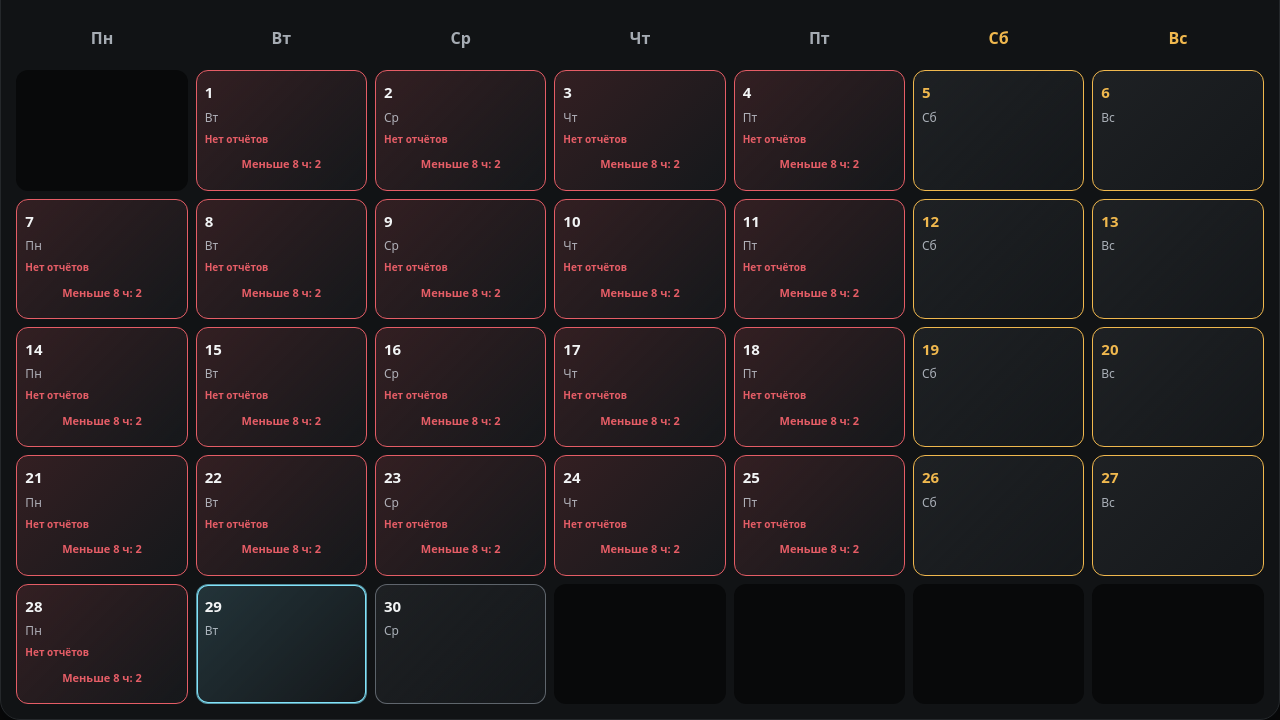
month calendar hour warnings › opens a day with no reports and lists only the employees missing hours
The image size is (1280, 720).
(page scrolled)
Click the button with aria-label "28 сентября:" at x=102, y=644, box [16,584,188,704]
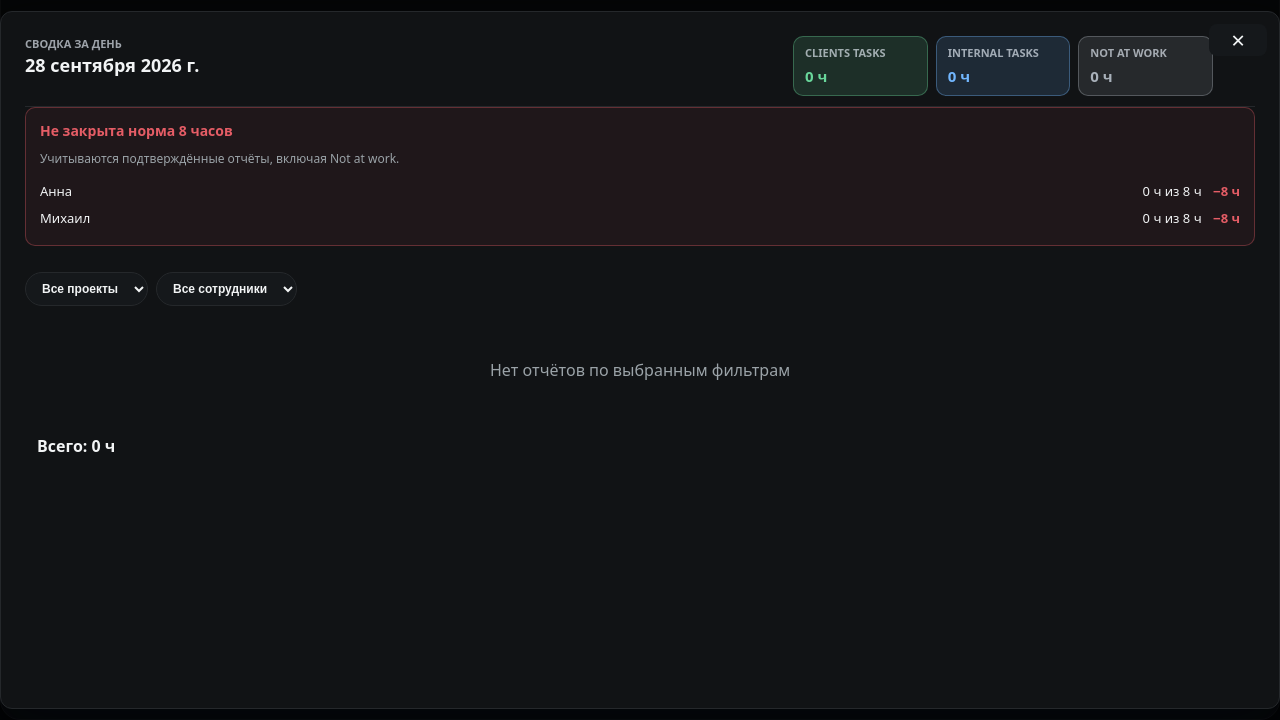
Result: the dialog named "Недостающие часы" is shown
Result: the text "Анна" is shown at [40,182,72,201]
Result: the text "Михаил" is shown at [40,209,90,229]
